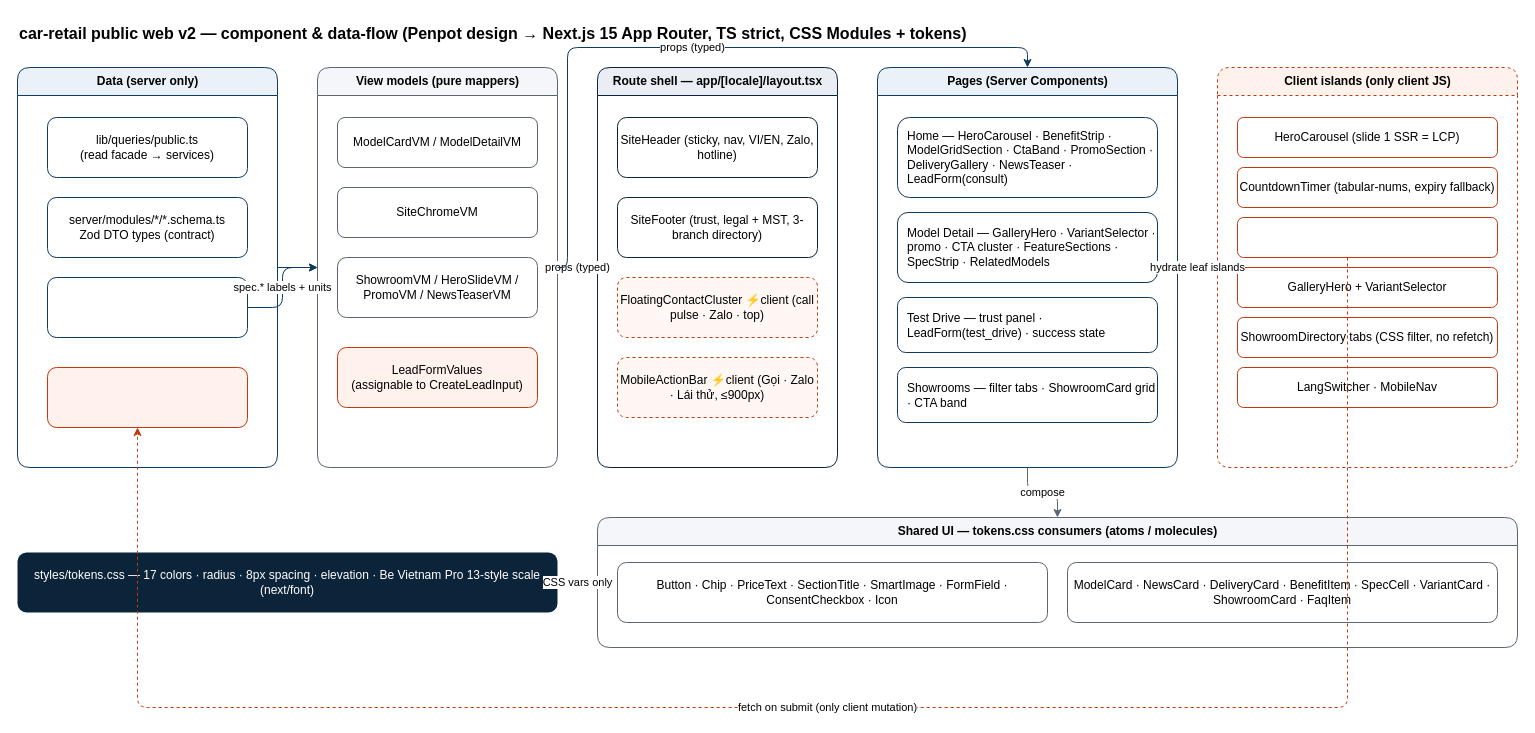
Some shapes in this 1535 by 733 pixel diagram are drawn without their labels. Here are the shapes that lost their labels. From the top down, the centre of each, then its label:
At [1367,237]: "LeadForm (consult / test_drive / deposit)".
At [147,307]: "messages/vi|en.json + units map (spec.* labels, unit display)".
At [147,397]: "POST /api/leads (Zod + rate-limit)".
